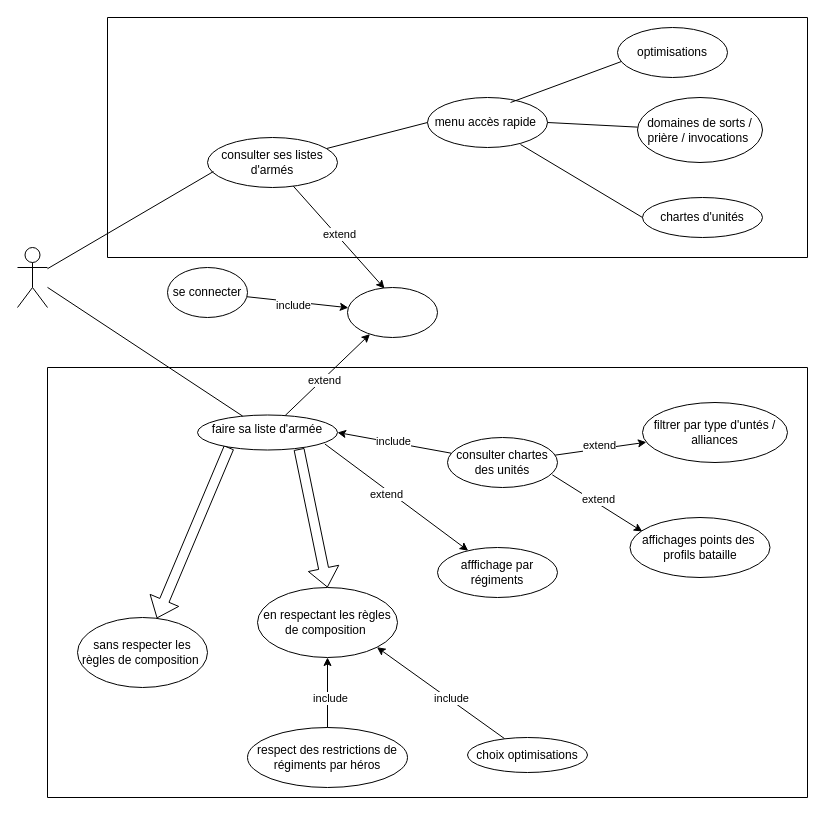
Some shapes in this 825 by 815 pixel diagram are drawn without their labels. The shapes that lost their labels are listed below. From the top down, each one's centre as x and y in pixels, then its label:
the point at 32,277: User
the point at 392,312: enregistrer en ligne
